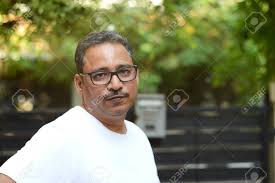Glasses: (88, 64, 139, 88)
